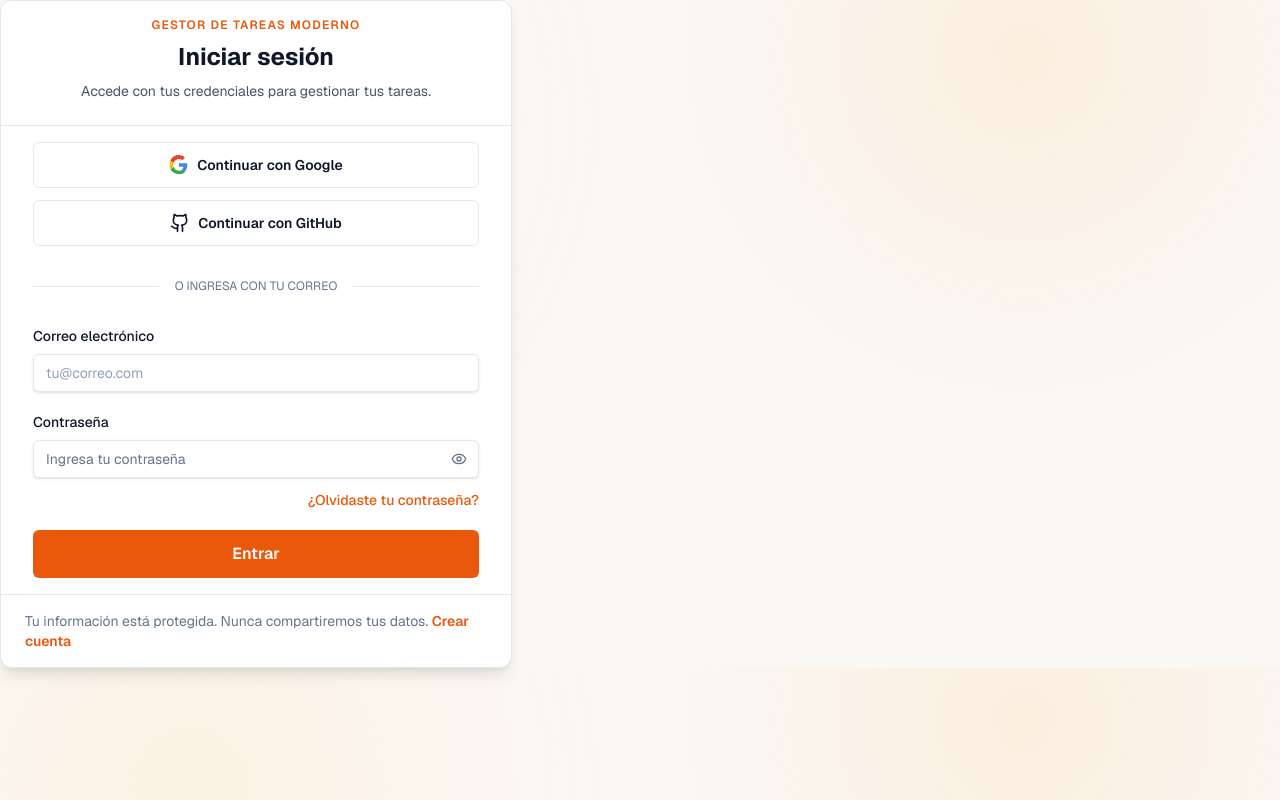
Scenario: LoginFormContainer › muestra mensajes de validacion cuando los campos son invalidos
This screenshot has width=1280, height=800.
Click the button "Entrar".
click(256, 554)  # box [33,530,479,578]
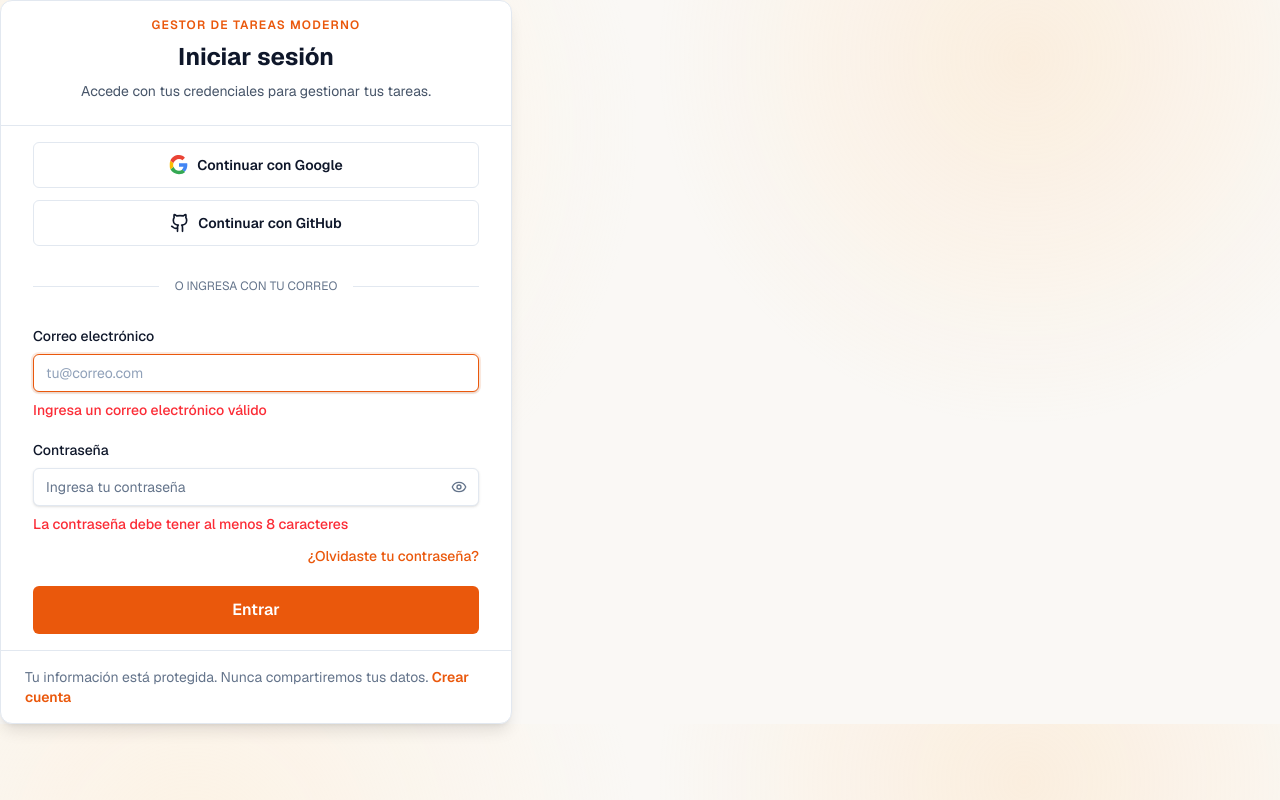
Expected: the text "Ingresa un correo electrónico válido" is shown, [33,401,267,419]
Expected: the text "La contraseña debe tener al menos 8 caracteres" is shown, [33,515,348,533]
